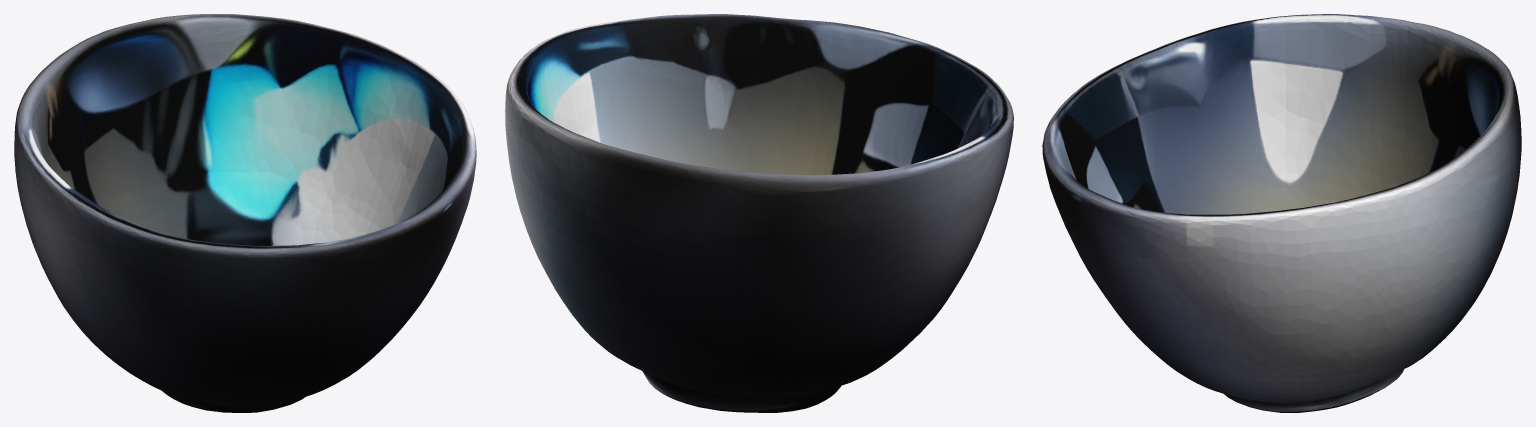
Rendered from porcelain-egg-cup-futuristic.jpeg.glb.
3 renders of one model, left to right at view 1: azimuth 30°, elevation 25°; view 2: azimuth 150°, elevation 25°; view 3: azimuth 270°, elevation 25°, orthographic. The views are drawn at different scales.
Parts seen in each view (by area): view 1: world; view 2: world; view 3: world.
Part boxes in pixels (box(x1,y1,x2,y2)): world: box(14, 14, 476, 412); world: box(505, 14, 1013, 412); world: box(1042, 14, 1521, 412).
Bounding box in the file's own units: 0.9783 × 0.6647 × 0.9827.
1 material, 1 textured.
